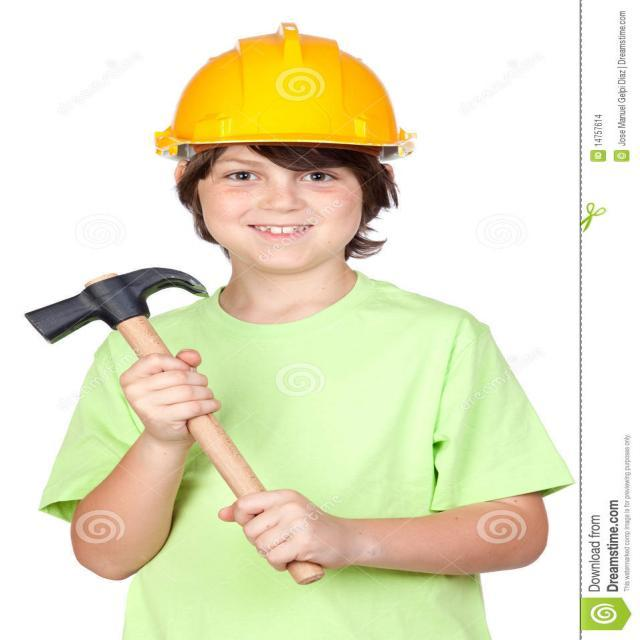hammer: (5, 255, 332, 587)
